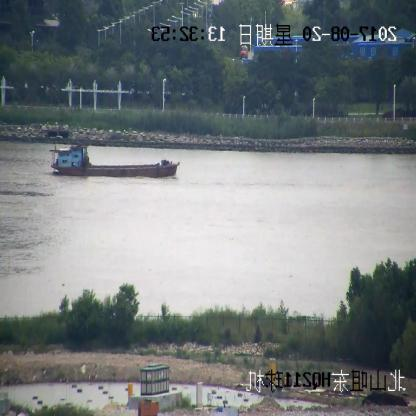Bulk Carrier: (50, 145, 179, 177)
